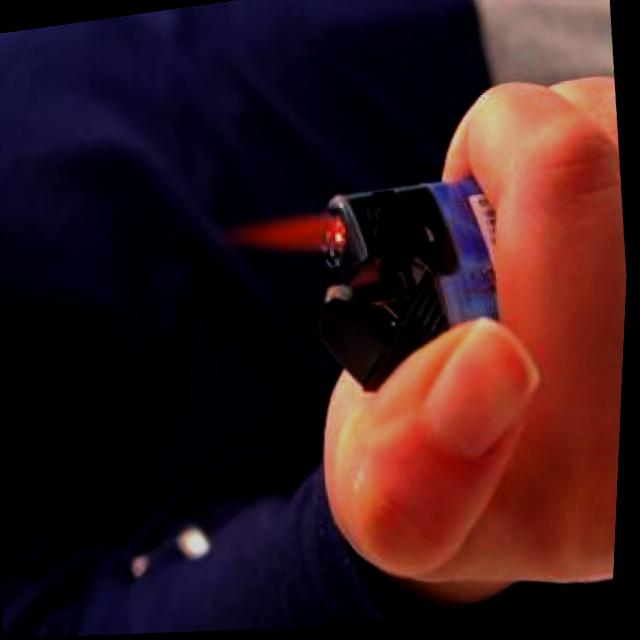fire: (228, 190, 351, 272)
